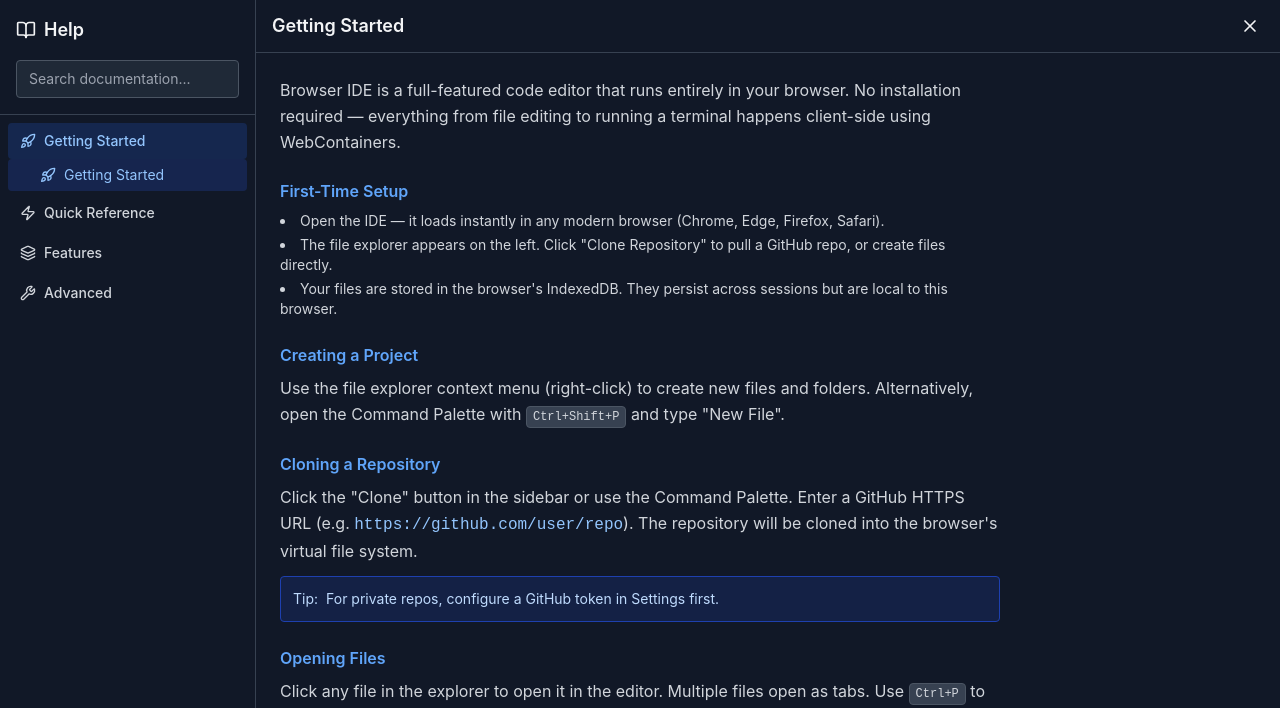
HelpPanel - Content Sections › renders Editor content with shortcuts table
Click the button "Features" at x=128, y=253, box left=8, top=235, right=247, bottom=271
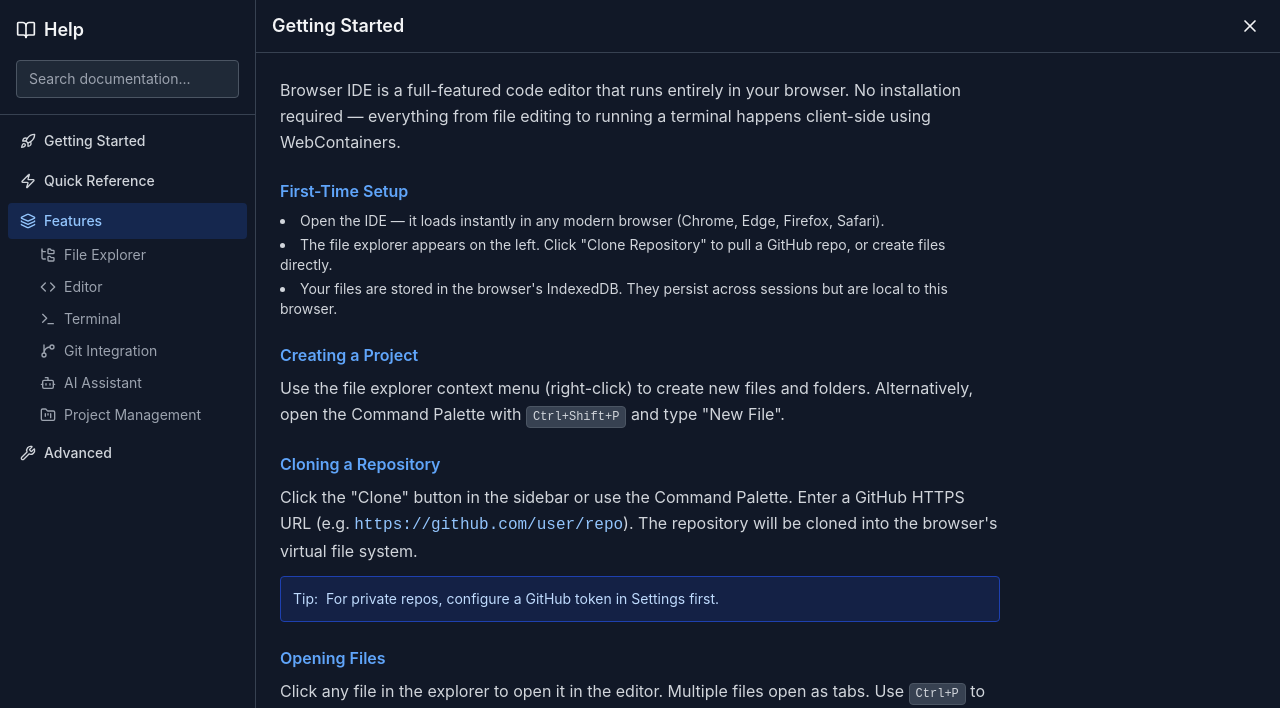
Now the button "Editor" is shown
Click the button "Editor" at x=128, y=287, box left=8, top=271, right=247, bottom=303
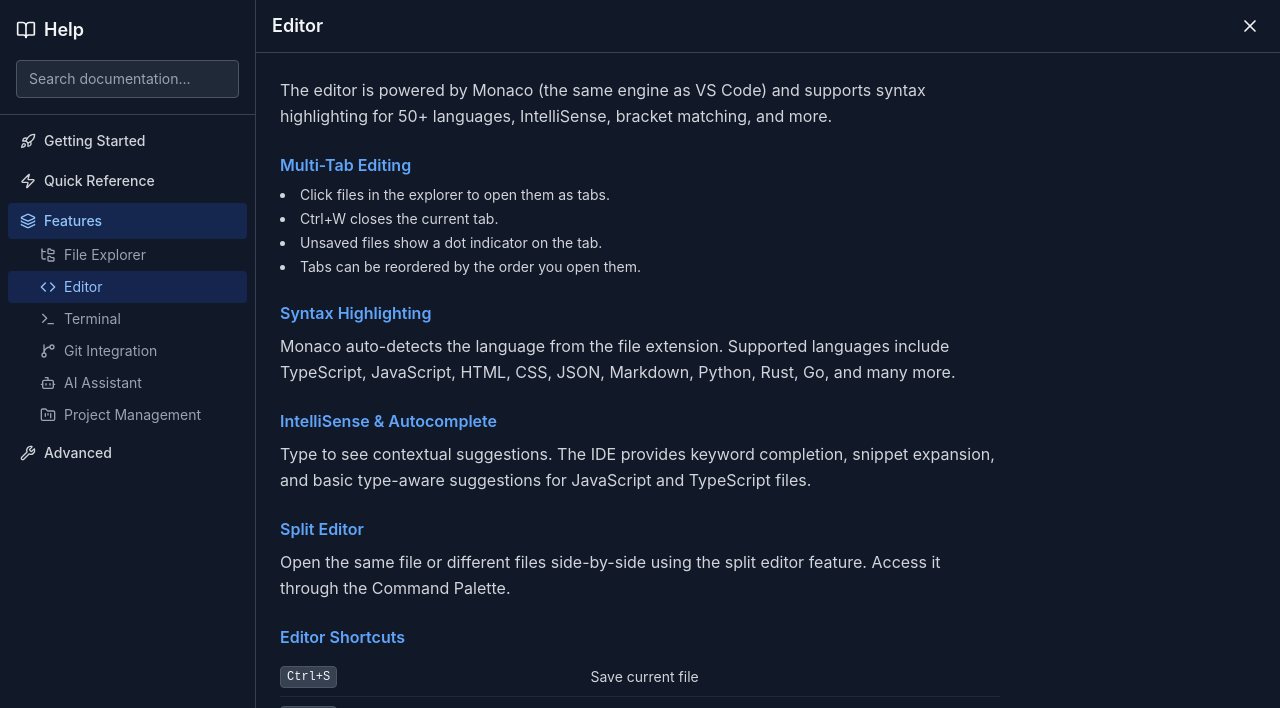
Now the heading "Multi-Tab Editing" is shown, box left=280, top=155, right=411, bottom=175
Now the text "Save current file" is shown, box left=590, top=657, right=1000, bottom=696
